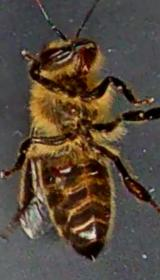varroa_mite: (42, 152, 76, 175)
